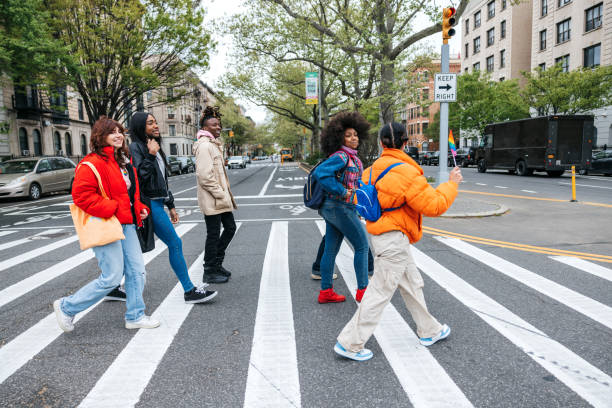otobus: (480, 109, 604, 176)
yaya: (357, 116, 463, 398), (63, 121, 164, 322), (122, 108, 212, 325), (173, 92, 253, 282), (302, 119, 363, 307)
